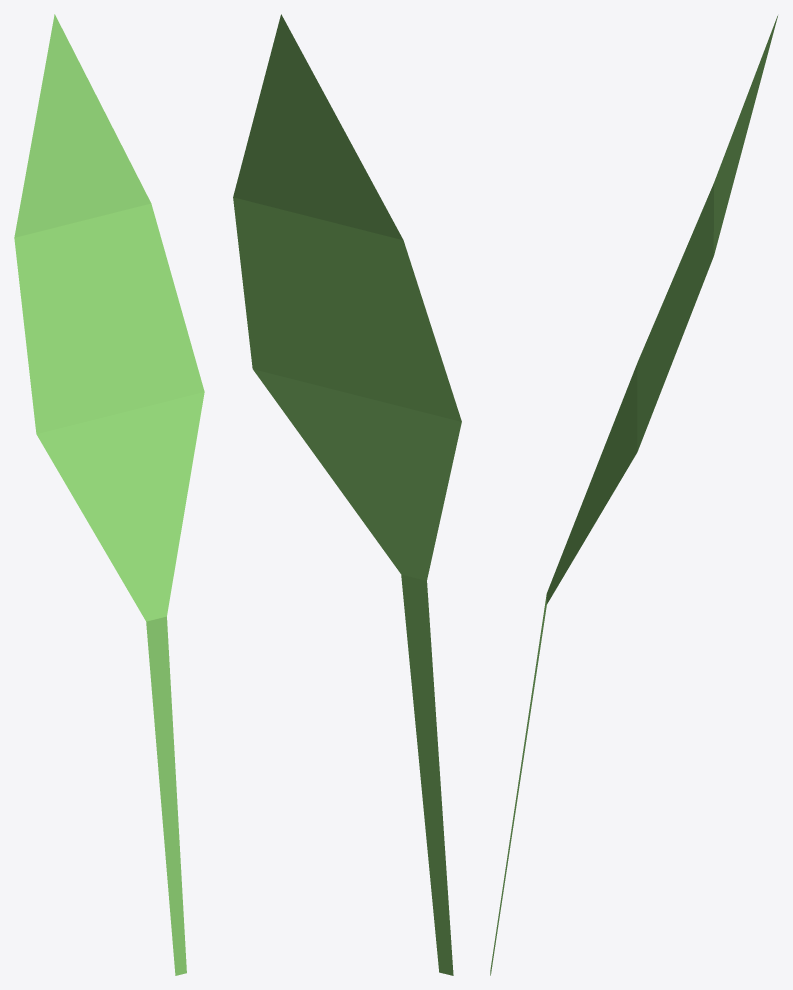
The model's file is Plant_g_TwoS_01.fbx.
The picture shows the model from 3 angles, left to right: view 1: azimuth 30°, elevation 25°; view 2: azimuth 150°, elevation 25°; view 3: azimuth 270°, elevation 25°; orthographic projection. The views are drawn at different scales.
Parts seen in each view (by area): view 1: Plant_g_TwoS_01; view 2: Plant_g_TwoS_01; view 3: Plant_g_TwoS_01.
Boxes of the visible parts, x1,y1,x2,y2 form: Plant_g_TwoS_01: [14, 14, 204, 975]; Plant_g_TwoS_01: [233, 14, 461, 975]; Plant_g_TwoS_01: [490, 16, 777, 975].
Bounding box in the file's own units: 12.81 × 62.99 × 17.12.
